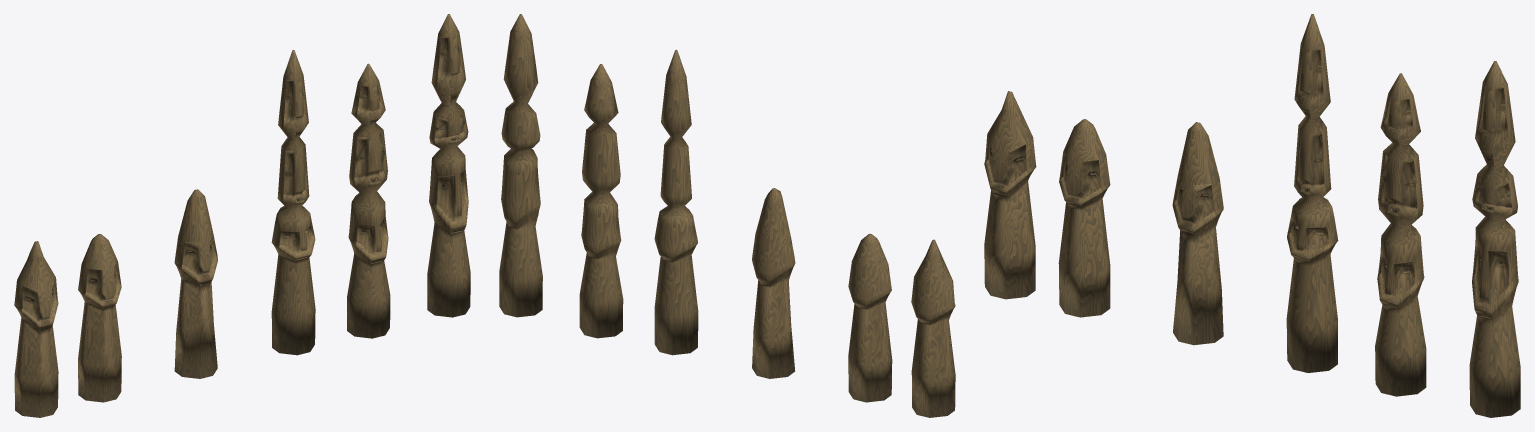
File: idols.fbx
The picture shows the model from 3 angles, left to right: view 1: azimuth 30°, elevation 25°; view 2: azimuth 150°, elevation 25°; view 3: azimuth 330°, elevation 25°; orthographic projection. The views are drawn at different scales.
Visible parts, largest first — view 1: idol6, idol2, idol5, idol3, idol4, idol; view 2: idol6, idol2, idol5, idol3, idol4, idol; view 3: idol6, idol2, idol5, idol3, idol4, idol.
Boxes of the visible parts, bbox=[...] form: idol6: bbox=[427, 14, 470, 317]; idol2: bbox=[271, 50, 315, 355]; idol5: bbox=[347, 63, 390, 338]; idol3: bbox=[174, 189, 217, 378]; idol4: bbox=[14, 241, 58, 417]; idol: bbox=[78, 234, 121, 402]; idol6: bbox=[499, 14, 542, 317]; idol2: bbox=[654, 49, 698, 355]; idol5: bbox=[579, 64, 623, 338]; idol3: bbox=[752, 188, 795, 378]; idol4: bbox=[911, 239, 955, 417]; idol: bbox=[848, 233, 892, 402]; idol6: bbox=[1469, 61, 1520, 417]; idol2: bbox=[1286, 14, 1338, 372]; idol5: bbox=[1375, 73, 1426, 396]; idol3: bbox=[1172, 122, 1223, 345]; idol4: bbox=[984, 91, 1036, 299]; idol: bbox=[1058, 119, 1110, 317].
Bounding box in the file's own units: 2513 × 1590 × 207.
